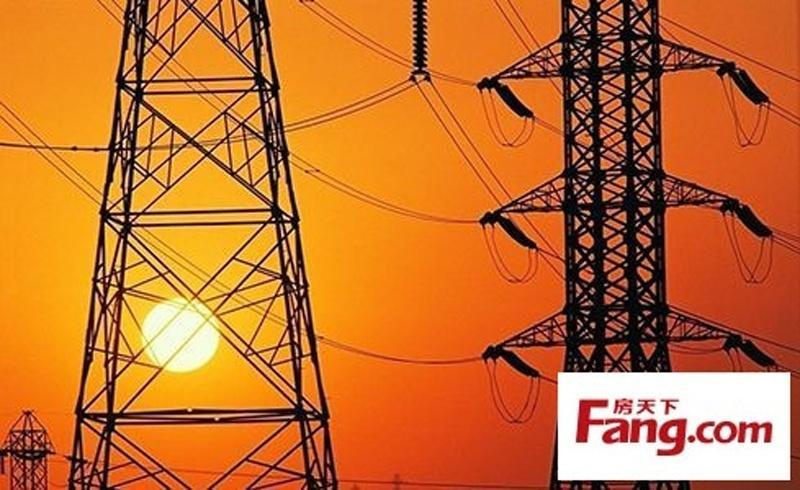power_tower: (66, 0, 435, 490), (475, 0, 778, 490), (0, 407, 58, 490)
